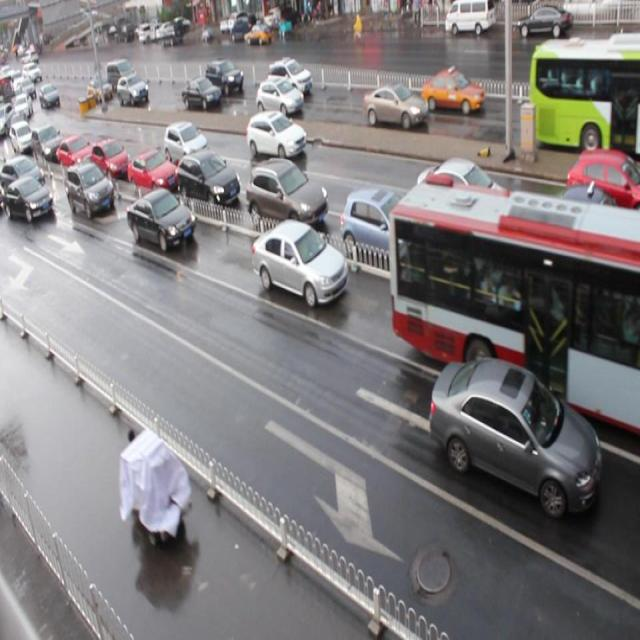car: (426, 354, 600, 519), (529, 184, 640, 273), (251, 218, 348, 308), (414, 156, 513, 235), (340, 186, 429, 270), (246, 158, 327, 233), (565, 146, 640, 224), (126, 188, 196, 252), (175, 150, 240, 204), (246, 109, 305, 165), (422, 69, 484, 117), (363, 83, 426, 130), (66, 162, 116, 220), (1, 177, 54, 224), (128, 145, 177, 193), (164, 122, 210, 168), (254, 79, 304, 118), (1, 154, 45, 198), (268, 58, 312, 98), (55, 131, 92, 175), (90, 137, 127, 176), (182, 79, 222, 112), (205, 63, 244, 96), (31, 125, 62, 164), (118, 76, 150, 108)
truck: (460, 193, 603, 324)
van: (389, 175, 640, 440), (528, 38, 640, 155)
